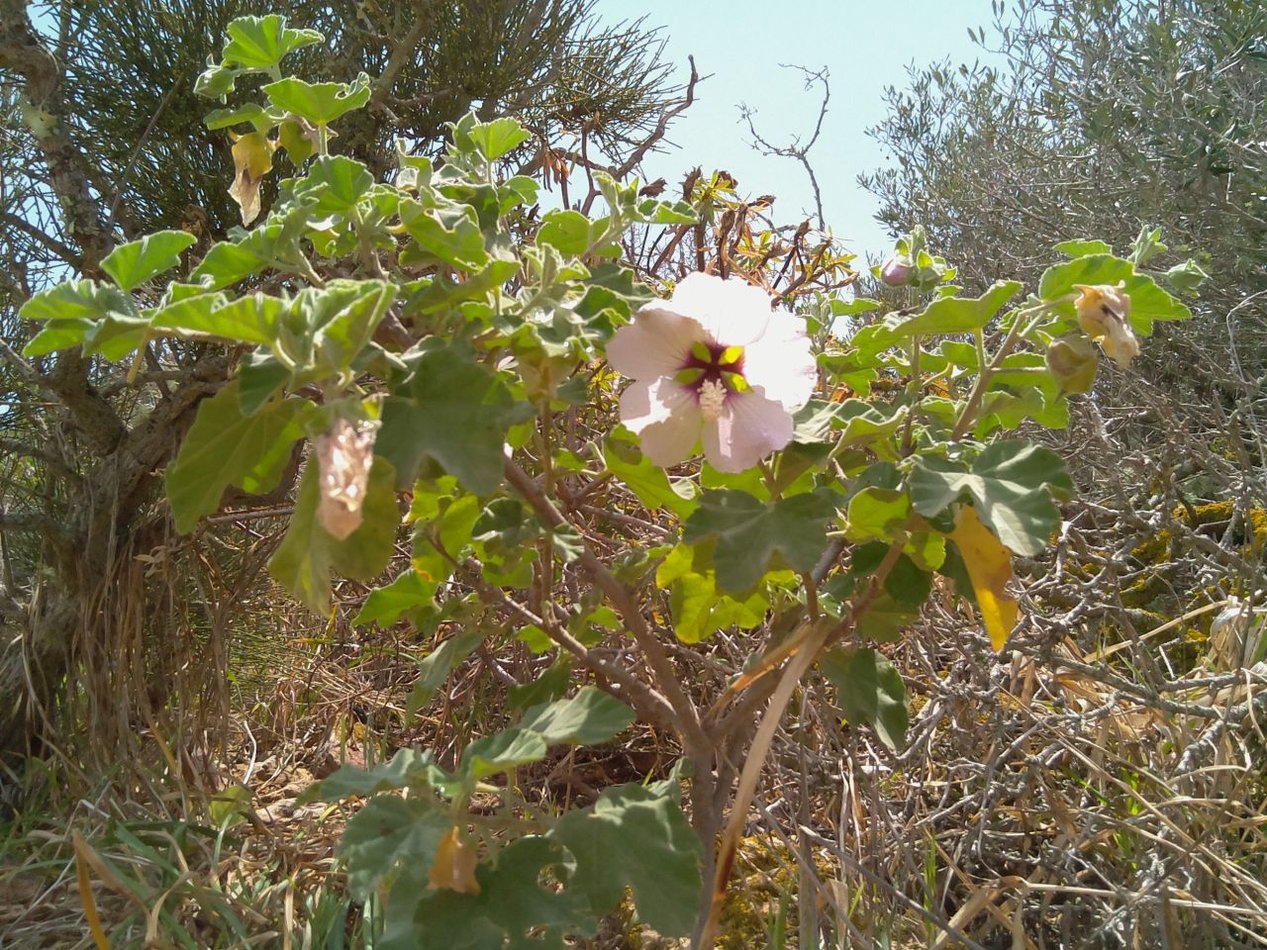Fly: (896, 304, 919, 324)
